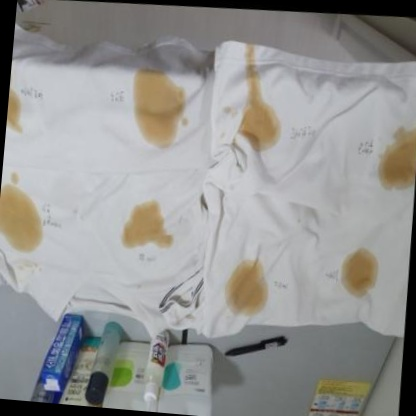coffee: (138, 77, 178, 140), (224, 263, 271, 315), (0, 191, 40, 246), (386, 138, 416, 187), (344, 253, 377, 294), (244, 104, 277, 145), (129, 207, 162, 246), (7, 95, 21, 128)
